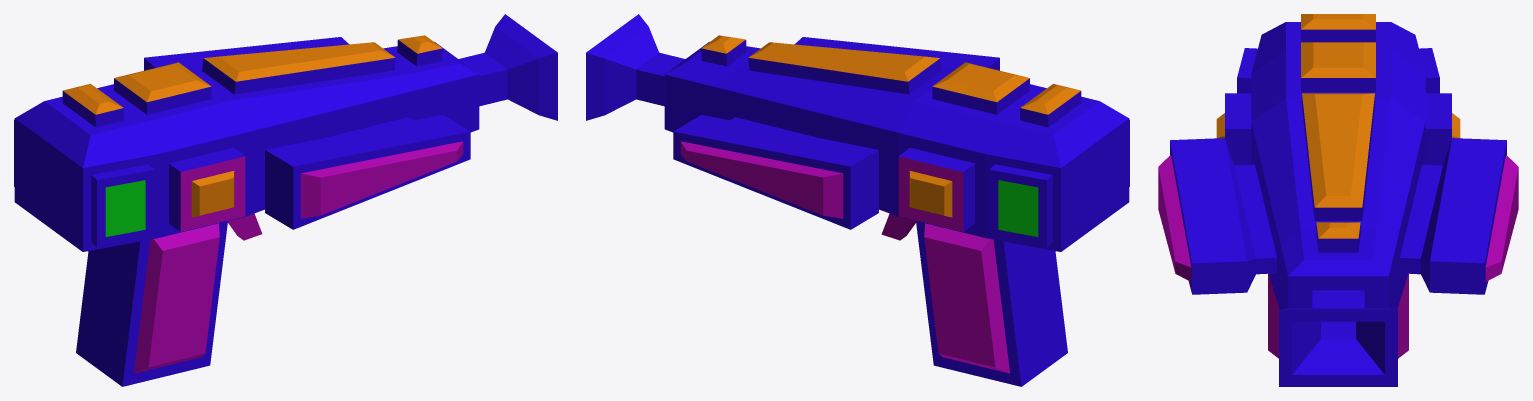
File: blaster.glb
3 renders of one model, left to right at view 1: azimuth 30°, elevation 25°; view 2: azimuth 150°, elevation 25°; view 3: azimuth 270°, elevation 25°, orthographic. The views are drawn at different scales.
Parts seen in each view (by area): view 1: Cube; view 2: Cube; view 3: Cube.
Part boxes in pixels (x1=…): Cube: x1=14, y1=14, x2=557, y2=386; Cube: x1=586, y1=14, x2=1129, y2=386; Cube: x1=1158, y1=14, x2=1518, y2=386.
Size of the model in its own units: 1 by 0.548 by 0.572.
